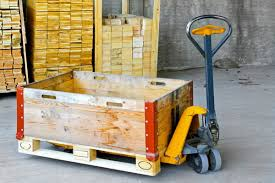Pallet Jack: (18, 13, 235, 176)
